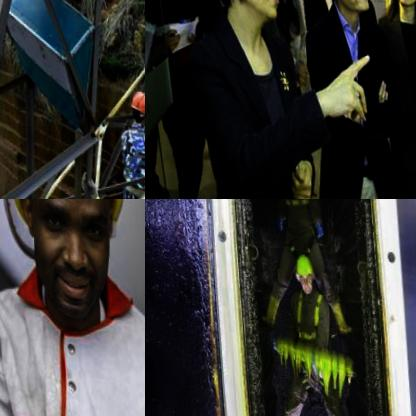helmet: (0, 199, 143, 329), (292, 246, 314, 287), (128, 84, 145, 121)
